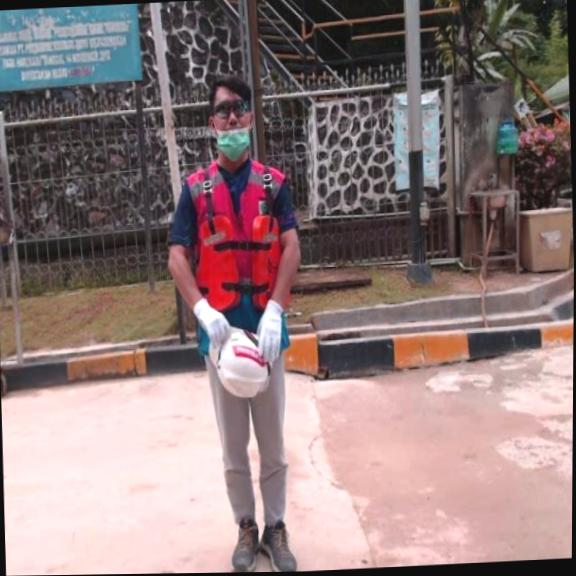safety_vest: (194, 216, 283, 310)
